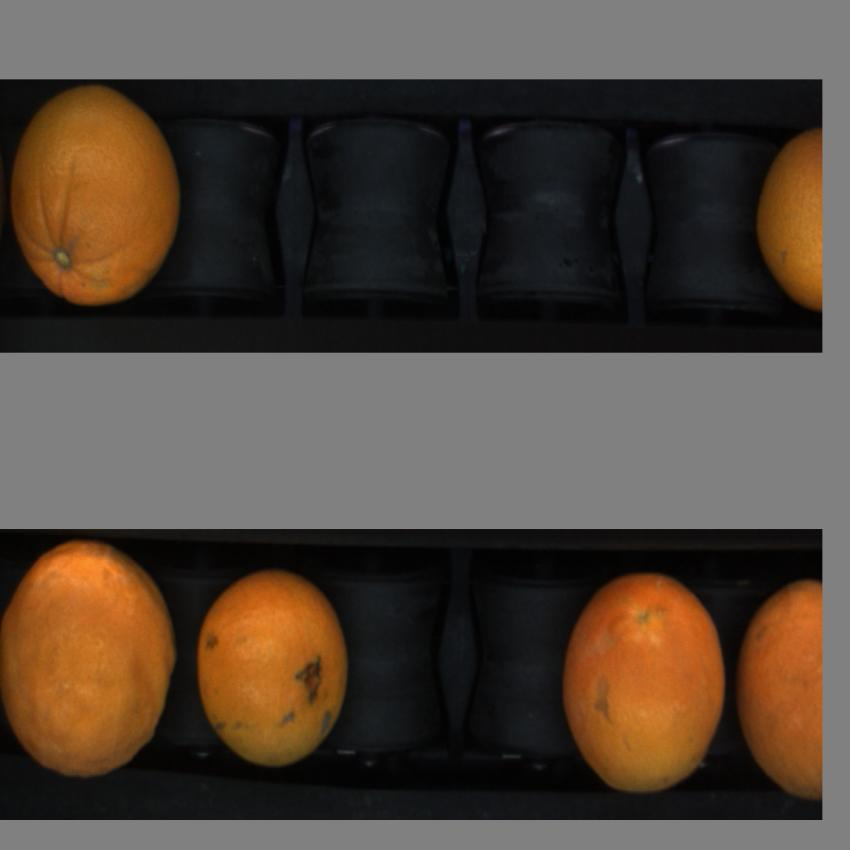Buen estado: (562, 563, 727, 799), (197, 560, 356, 780), (736, 572, 821, 806), (748, 124, 822, 314)
Mal estado: (6, 84, 194, 314), (1, 548, 183, 782)
